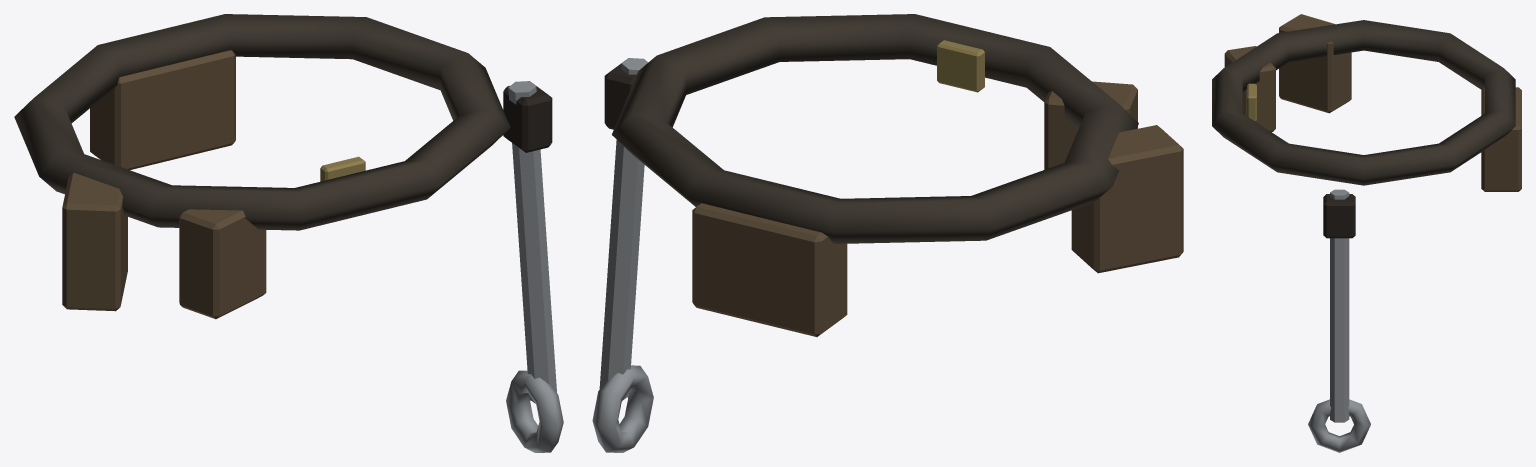
The model's file is npc_belt_wrench.glb.
3 views of the same model, side by side, from view 1: azimuth 30°, elevation 25°; view 2: azimuth 150°, elevation 25°; view 3: azimuth 270°, elevation 25° (orthographic). The views are drawn at different scales.
Parts seen in each view (by area): view 1: part.npc_belt_wrench; view 2: part.npc_belt_wrench; view 3: part.npc_belt_wrench.
Part boxes in pixels (<box>): part.npc_belt_wrench: <box>14,14,563,452</box>; part.npc_belt_wrench: <box>592,14,1183,452</box>; part.npc_belt_wrench: <box>1212,14,1521,452</box>.
Bounding box in the file's own units: 0.512 × 0.3768 × 0.3823.
